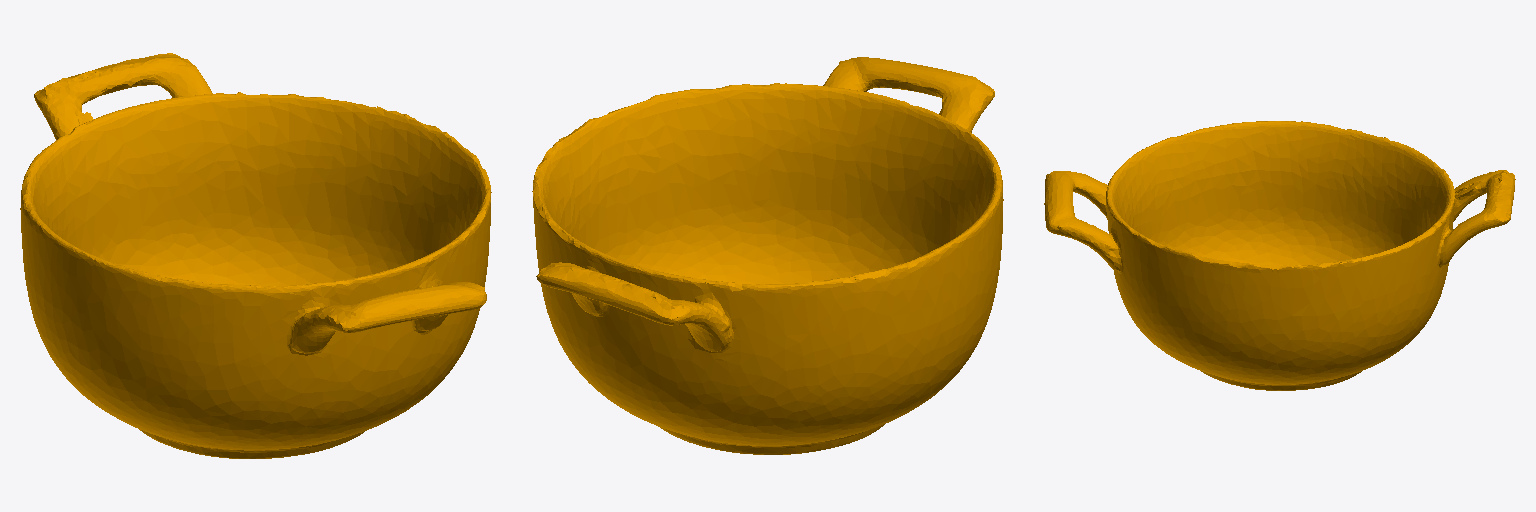
robot.urdf — model.urdf:
<?xml version='1.0' encoding='utf-8'?>
<robot name="model.urdf">
  <link name="baseLink">
    <contact>
      <friction_anchor />
      <lateral_friction value="0.3" />
      <rolling_friction value="0.0" />
      <contact_cfm value="0.0" />
      <contact_erp value="1.0" />
    </contact>
    <inertial>
       <origin rpy="0 0 0" xyz="0 0 0" />
       <mass value="0.1" />
       <inertia ixx="8e-05" ixy="0" ixz="0" iyy="0.0002" iyz="0" izz="0.0002" />
    </inertial>
    <visual>
      <geometry>
        <mesh filename="textured.obj" scale="0.001 0.001 0.001" />
      </geometry>
      
    </visual>
    <collision>
      <geometry>
    	 	<mesh filename="coacd_collision.obj" scale="0.001 0.001 0.001" />
      </geometry>
    </collision>
  </link>
</robot>

--- Render facts (derived) ---
The picture shows the robot from 3 angles, left to right: view 1: azimuth 30°, elevation 25°; view 2: azimuth 150°, elevation 25°; view 3: azimuth 270°, elevation 25°; orthographic projection.
Robot: model.urdf — 1 links, 0 joints (none); root link baseLink; default pose: all joints at 0.
Visible links, largest first — view 1: baseLink; view 2: baseLink; view 3: baseLink.
Boxes of the visible links, x1,y1,x2,y2 form: baseLink: [20, 53, 491, 458]; baseLink: [532, 57, 1003, 454]; baseLink: [1044, 121, 1515, 390].
Bounding box of the posed robot: 0.1443 × 0.1974 × 0.0781 m (x, y, z).
Meshes: 1 distinct files referenced, 1 mesh visuals loaded (1 OBJ).